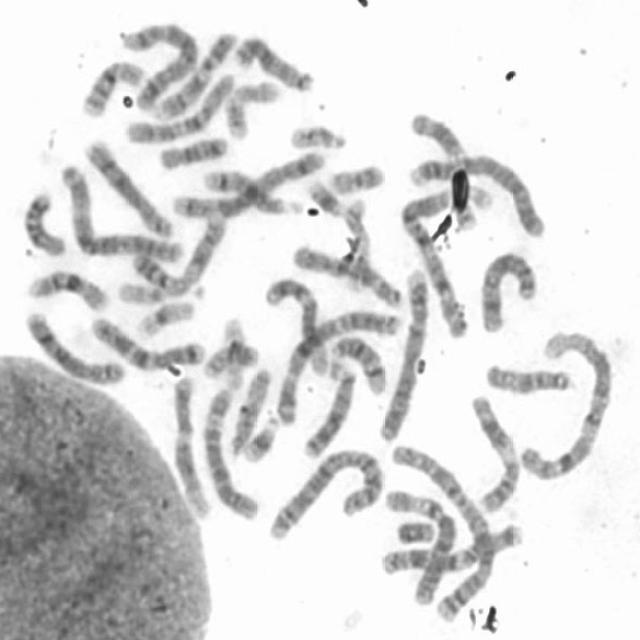A1: (515, 323, 616, 482), (395, 184, 474, 340)
A2: (386, 437, 503, 625), (264, 441, 387, 544)
A3: (273, 303, 405, 427), (53, 156, 185, 264)
B4: (403, 147, 548, 239), (372, 262, 431, 443)
B5: (166, 144, 327, 220), (117, 16, 202, 118)
C10: (121, 68, 236, 146), (289, 240, 405, 310)
C11: (405, 104, 482, 229), (464, 388, 523, 516)
C12: (260, 270, 334, 378), (168, 371, 215, 520)
C6: (382, 482, 463, 610), (198, 382, 263, 522)
C7: (373, 517, 525, 578), (85, 308, 207, 371)
C8: (79, 132, 176, 240), (19, 304, 129, 388)
C9: (127, 206, 231, 296), (148, 26, 240, 122)
D13: (299, 358, 359, 460), (230, 28, 317, 94)
D14: (197, 161, 302, 217), (326, 329, 389, 396)
D15: (224, 362, 274, 458), (480, 357, 576, 396)
E16: (76, 54, 146, 119), (23, 263, 112, 313)
E17: (221, 75, 283, 141), (338, 192, 373, 293)
E18: (17, 184, 69, 258), (153, 129, 230, 171)
F19: (132, 293, 199, 340), (219, 312, 248, 391)
F20: (198, 339, 261, 380), (325, 155, 388, 196)
G21: (238, 410, 282, 463), (303, 173, 348, 219)
G22: (284, 118, 349, 150), (112, 275, 172, 306)
X: (475, 244, 539, 334)
Y: (392, 517, 436, 546)
